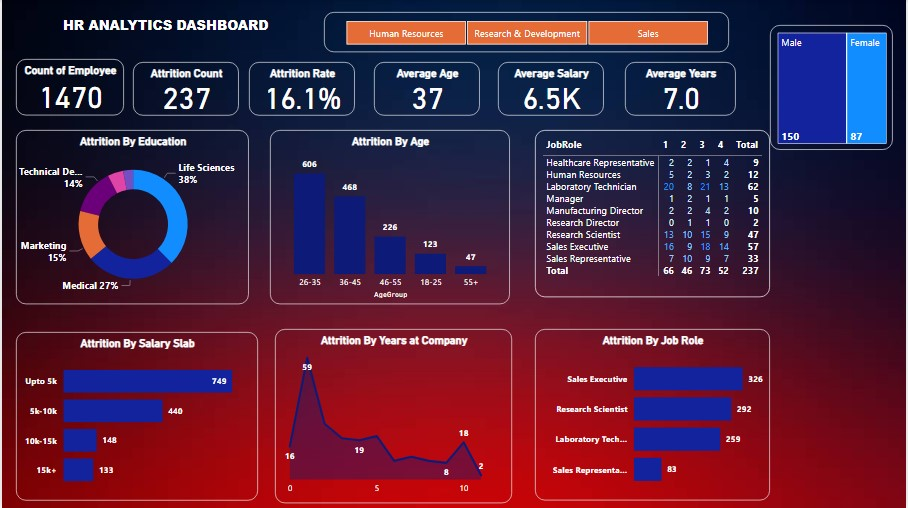

The dashboard page shown, as its layout file describes it:
{"tool":"powerbi","page":{"name":"Page 1","canvas":[1280,720],"ordinal":0},"visuals":[{"type":"card","title":"Count of Employee","fields":{"Values":["Sum(HR_Analytics.EmployeeCount)"]},"box":[20,84.3,152.9,80],"z":0},{"type":"card","title":"Attrition Count","fields":{"Values":["Sum(HR_Analytics.AttritionCount)"]},"box":[185.7,88.6,150,75.7],"z":1000},{"type":"card","title":"Attrition Rate","fields":{"Values":["HR_Analytics.Attrition Rate"]},"box":[350,88.6,150,75.7],"z":2000},{"type":"card","title":"Average Age","fields":{"Values":["Avg(HR_Analytics.Age)"]},"box":[527.1,88.6,150,75.7],"z":3000},{"type":"card","title":"Average Salary","fields":{"Values":["Avg(HR_Analytics.MonthlyIncome)"]},"box":[702.9,88.6,150,75.7],"z":4000},{"type":"card","title":"Average Years ","fields":{"Values":["Avg(HR_Analytics.YearsAtCompany)"]},"box":[882.9,88.6,157.1,75.7],"z":5000},{"type":"donutChart","title":"Attrition By Education","fields":{"Category":["HR_Analytics.EducationField"],"Y":["Sum(HR_Analytics.AttritionCount)"]},"box":[20,184.3,330,247.1],"z":6000},{"type":"columnChart","title":"Attrition By Age","fields":{"Category":["HR_Analytics.AgeGroup"],"Y":["CountNonNull(HR_Analytics.Attrition)"]},"box":[380,184.3,340,247.1],"z":7000},{"type":"pivotTable","fields":{"Rows":["HR_Analytics.JobRole"],"Columns":["HR_Analytics.JobSatisfaction"],"Values":["Sum(HR_Analytics.AttritionCount)"]},"box":[755.7,184.3,332.9,237.1],"z":8000},{"type":"barChart","title":"Attrition By Salary Slab","fields":{"Category":["HR_Analytics.SalarySlab"],"Y":["CountNonNull(HR_Analytics.Attrition)"]},"box":[20,470,342.9,238.6],"z":9000},{"type":"barChart","title":"Attrition By Job Role","fields":{"Y":["CountNonNull(HR_Analytics.Attrition)"],"Category":["HR_Analytics.JobRole"]},"box":[755.7,465.7,332.9,242.9],"z":10000},{"type":"areaChart","title":"Attrition By Years at Company","fields":{"Category":["HR_Analytics.YearsAtCompany"],"Y":["Sum(HR_Analytics.AttritionCount)"]},"box":[387.1,465.7,335.7,247.1],"z":11000},{"type":"treemap","title":"Attrition By Years at Company","fields":{"Group":["HR_Analytics.Gender"],"Values":["Sum(HR_Analytics.AttritionCount)"]},"box":[1100,17.1,165.7,167.1],"z":12000},{"type":"slicer","fields":{"Values":["HR_Analytics.Department"]},"box":[455.7,17.1,574.3,57.1],"z":13000},{"type":"textbox","box":[20,17.1,424.3,57.1],"z":14000}]}

Visuals, with their boxes in screenshot pixels (x1, y1, x2, y2), scaled from the page's 1280x720 canvas onto the 908x508 screenshot:
"Count of Employee" card: 14/59/123/116
"Attrition Count" card: 132/63/238/116
"Attrition Rate" card: 248/63/355/116
"Average Age" card: 374/63/480/116
"Average Salary" card: 499/63/605/116
"Average Years " card: 626/63/738/116
"Attrition By Education" donutChart: 14/130/248/304
"Attrition By Age" columnChart: 270/130/511/304
pivotTable - HR_Analytics.JobRole x HR_Analytics.JobSatisfaction: 536/130/772/297
"Attrition By Salary Slab" barChart: 14/332/257/500
"Attrition By Job Role" barChart: 536/329/772/500
"Attrition By Years at Company" areaChart: 275/329/513/503
"Attrition By Years at Company" treemap: 780/12/898/130
slicer - HR_Analytics.Department: 323/12/731/52
textbox: 14/12/315/52
